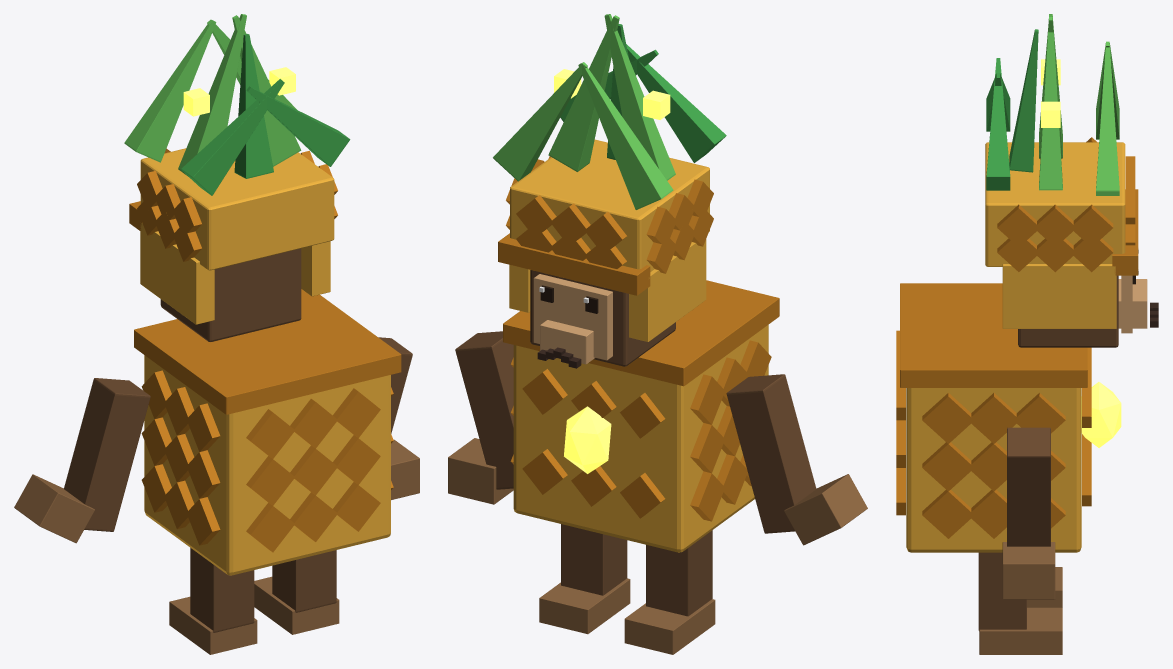
The model's file is pineape.glb.
3 views of the same model, side by side, from view 1: azimuth 30°, elevation 25°; view 2: azimuth 150°, elevation 25°; view 3: azimuth 270°, elevation 25° (orthographic). The views are drawn at different scales.
Visible parts, largest first — view 1: body, head, arm.R, ear.R, leg.FR, leg.FL, ear.L, arm.L; view 2: body, head, arm.R, ear.R, arm.L, leg.FR, ear.L, leg.FL; view 3: body, head, arm.L, ear.L, leg.FL, ear.R, leg.FR.
Boxes of the visible parts, x1,y1,x2,y2 form: body: [134, 289, 401, 575]; head: [129, 34, 337, 341]; arm.R: [14, 378, 150, 543]; ear.R: [124, 14, 284, 195]; leg.FR: [169, 548, 257, 654]; leg.FL: [254, 550, 339, 634]; ear.L: [207, 15, 350, 166]; arm.L: [378, 337, 419, 499]; body: [503, 280, 779, 552]; head: [498, 24, 713, 368]; arm.R: [726, 374, 867, 545]; ear.R: [578, 14, 726, 209]; arm.L: [448, 331, 513, 504]; leg.FR: [624, 530, 715, 654]; ear.L: [493, 15, 658, 181]; leg.FL: [539, 524, 630, 634]; body: [896, 283, 1121, 552]; head: [985, 29, 1158, 347]; arm.L: [1002, 427, 1055, 599]; ear.L: [986, 14, 1119, 195]; leg.FL: [978, 552, 1062, 654]; ear.R: [986, 17, 1119, 158]; leg.FR: [1027, 567, 1062, 607].
Size of the model in its own units: 0.6504 by 0.9779 by 0.3827.
